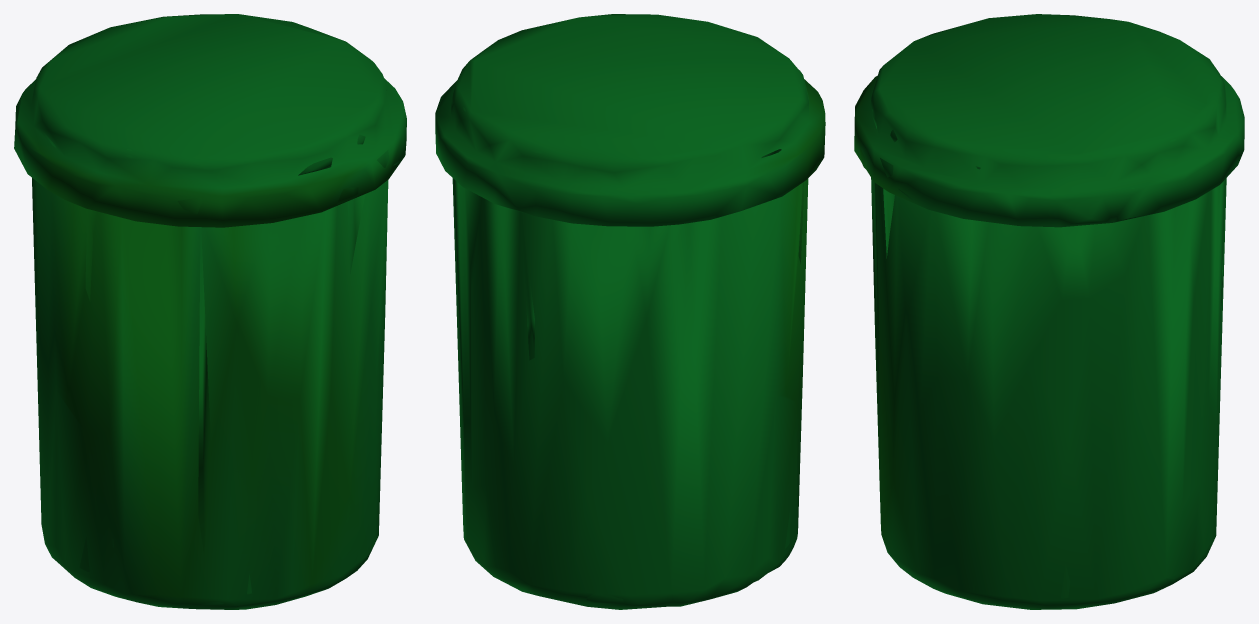
File: gen3d-street-trash-can-lod1.glb
3 views of the same model, side by side, from view 1: azimuth 30°, elevation 25°; view 2: azimuth 150°, elevation 25°; view 3: azimuth 270°, elevation 25° (orthographic).
Visible parts, largest first — view 1: part_0; view 2: part_0; view 3: part_0.
Part boxes in pixels (x1,y1,x2,y2): part_0: (14,14,406,609); part_0: (435,14,825,609); part_0: (854,14,1244,609).
Size of the model in its own units: 0.8019 by 1.05 by 0.8023.
